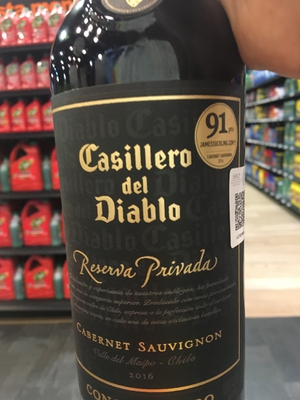casillero del diablo reserva privada cabernet sauvignon: (44, 13, 262, 400)
